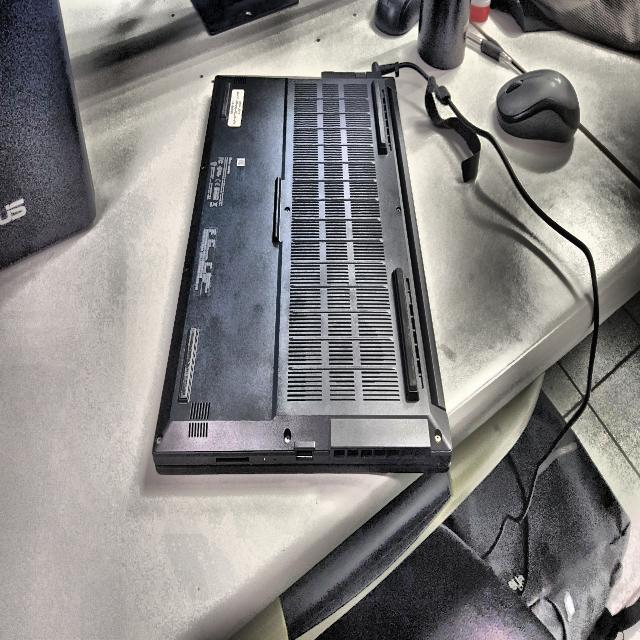Laptop: (153, 72, 451, 472)
MOUSE: (496, 70, 580, 142), (374, 0, 421, 36)
